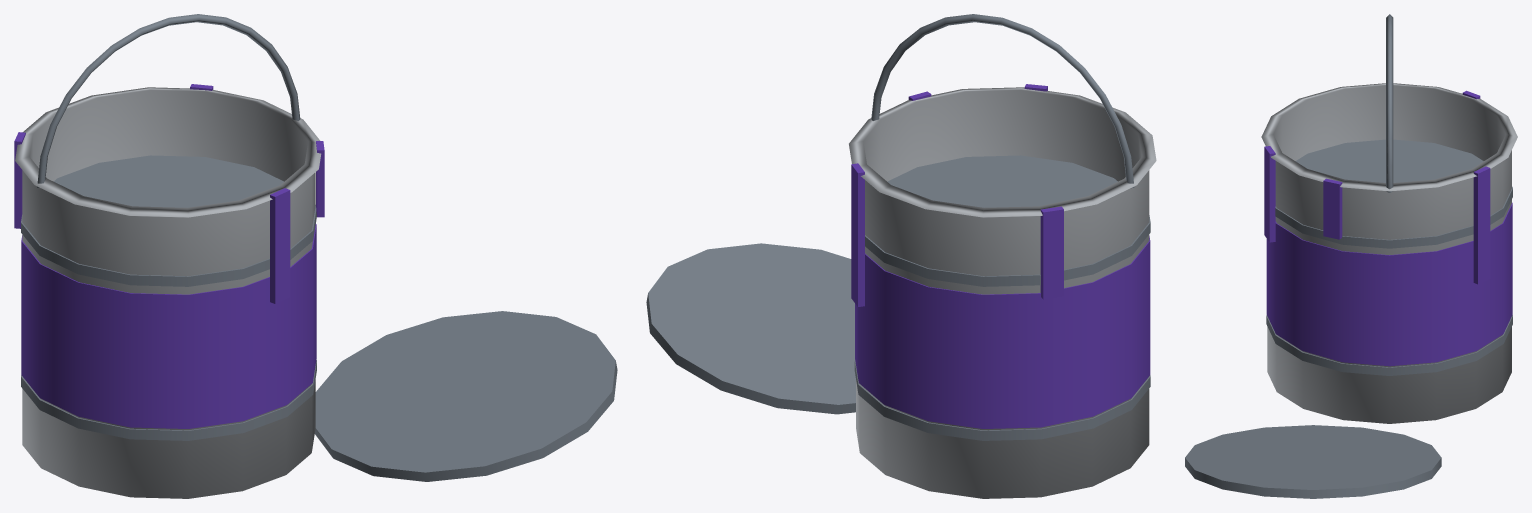
File: lata_violeta.glb
The picture shows the model from 3 angles, left to right: view 1: azimuth 30°, elevation 25°; view 2: azimuth 150°, elevation 25°; view 3: azimuth 270°, elevation 25°; orthographic projection. The views are drawn at different scales.
Visible parts, largest first — view 1: lata_violeta_malha; view 2: lata_violeta_malha; view 3: lata_violeta_malha.
Boxes of the visible parts, x1,y1,x2,y2 form: lata_violeta_malha: (14, 14, 617, 498); lata_violeta_malha: (646, 14, 1156, 498); lata_violeta_malha: (1185, 14, 1517, 498).
Bounding box in the file's own units: 1.62 × 1.3 × 1.09.
